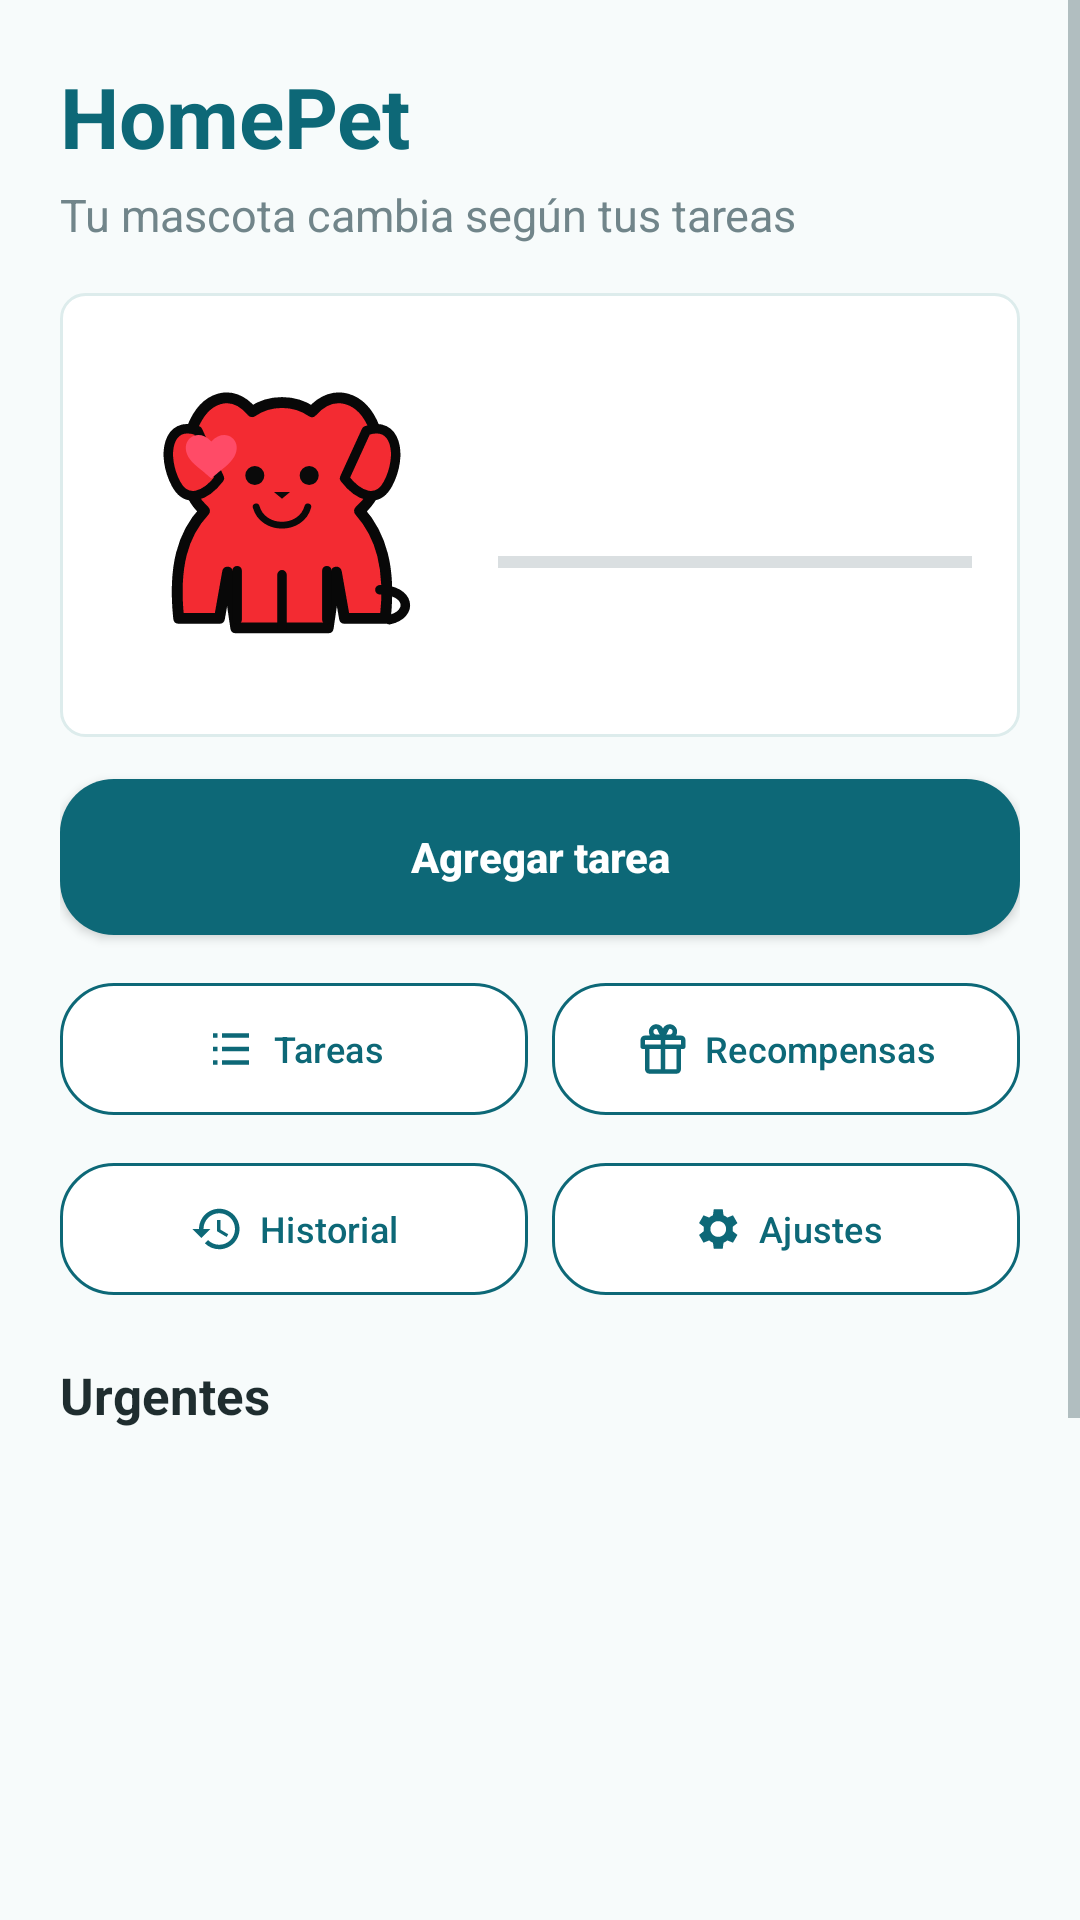

Icon click points for this 1080w x 1920h phone screenshot, format (x,y):
Mascota de HomePet: (286,513)
